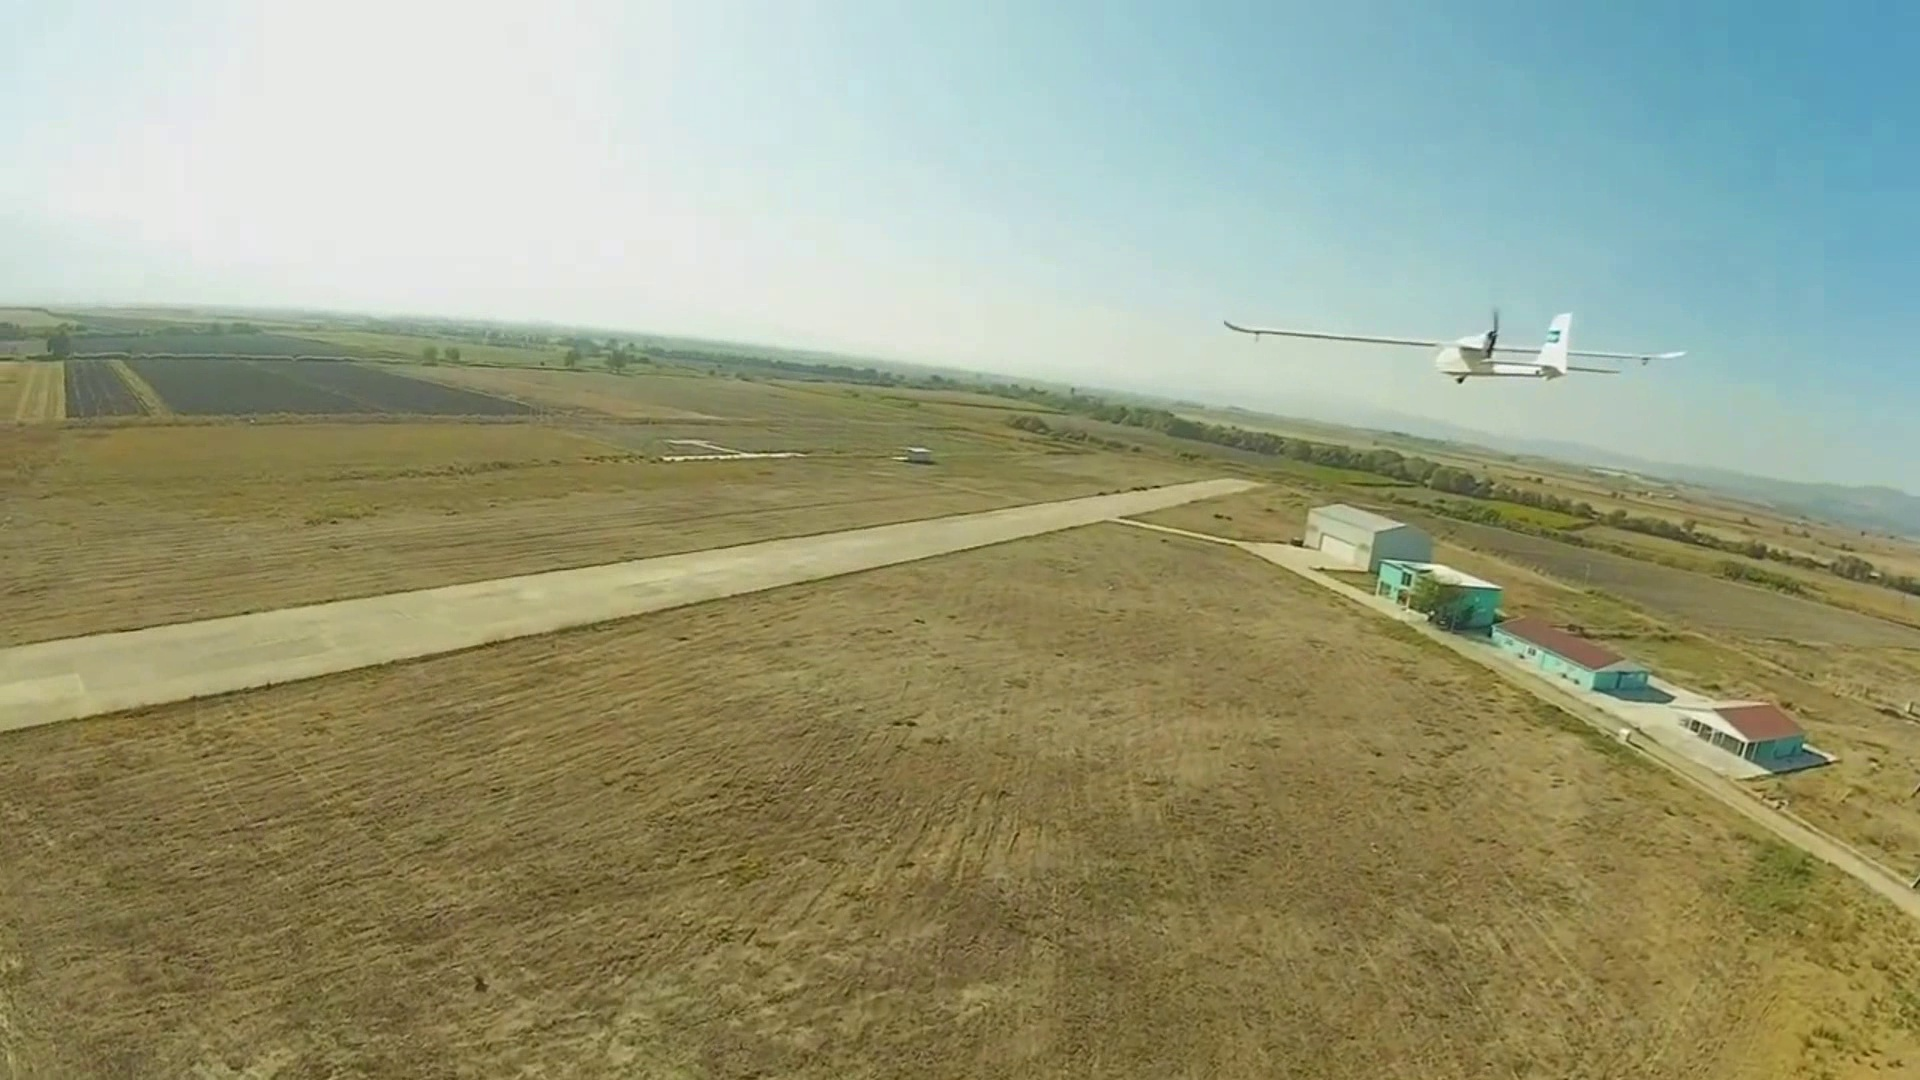airplane: (1224, 304, 1685, 384)
